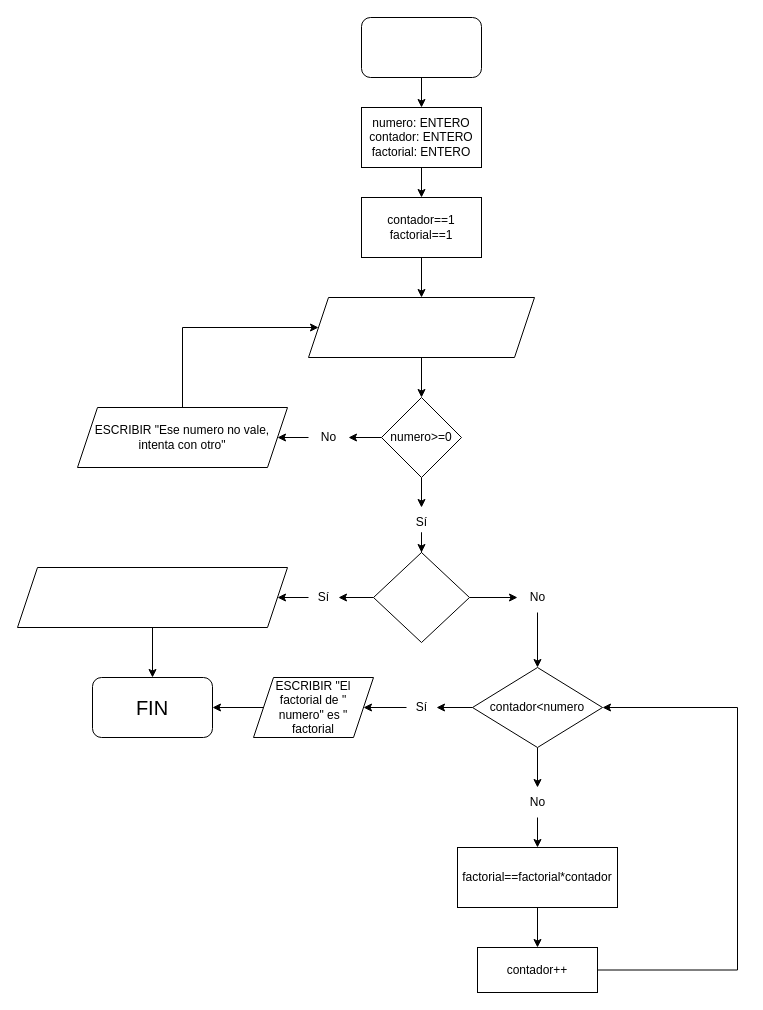
Image size: 763x1010. Some labels were removed from this diagram. Each missing label, with the centre of its shape:
ESCRIBIR "El factorial de "numero" es 1": point (152, 597)
ESCRIBIR "Introduzca un numero" LEER numero: point (421, 327)
INICIO: point (421, 47)
numero=0 OR numero=1: point (421, 597)
